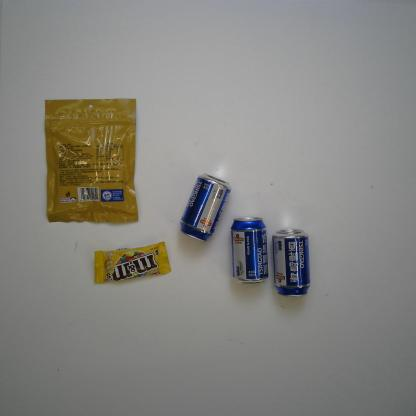Alcohol: (178, 170, 233, 242), (271, 226, 311, 300), (228, 216, 269, 285)
Chocolate: (91, 240, 174, 284)
Dried Fruit: (43, 96, 142, 224)
